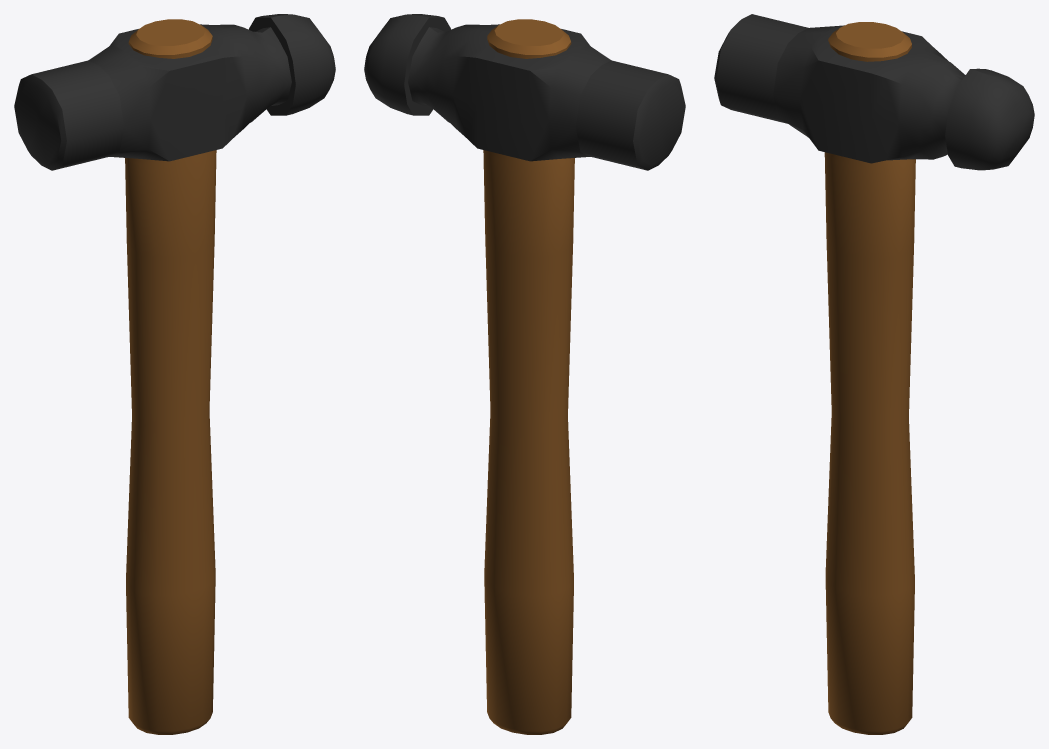
The model's file is hammer_full.fbx.
3 views of the same model, side by side, from view 1: azimuth 30°, elevation 25°; view 2: azimuth 150°, elevation 25°; view 3: azimuth 330°, elevation 25° (orthographic).
Parts seen in each view (by area): view 1: handle.001; view 2: handle.001; view 3: handle.001.
Part boxes in pixels (left/top/right/bottom): handle.001: left=14, top=14, right=335, bottom=734; handle.001: left=364, top=14, right=685, bottom=734; handle.001: left=714, top=14, right=1034, bottom=734.
Bounding box in the file's own units: 11.59 × 26.67 × 3.58.
